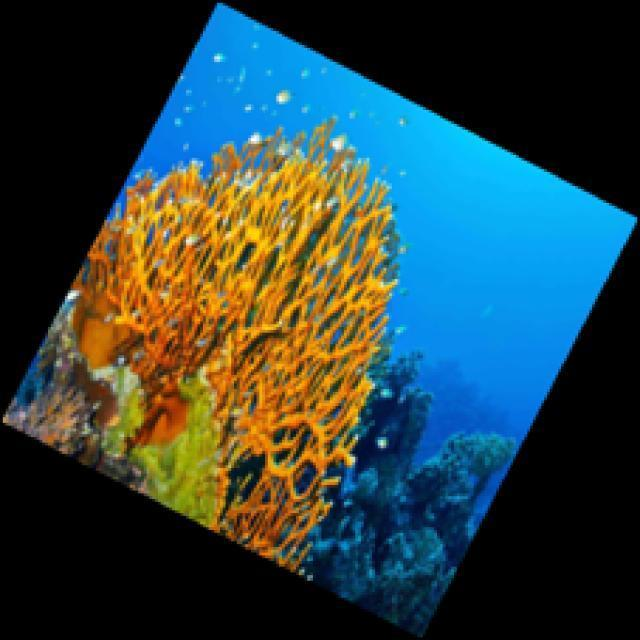Healthy: (79, 121, 403, 582), (107, 374, 226, 532)
